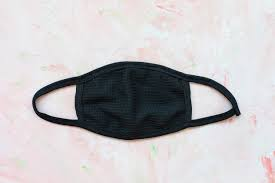mask: (24, 53, 248, 149)
